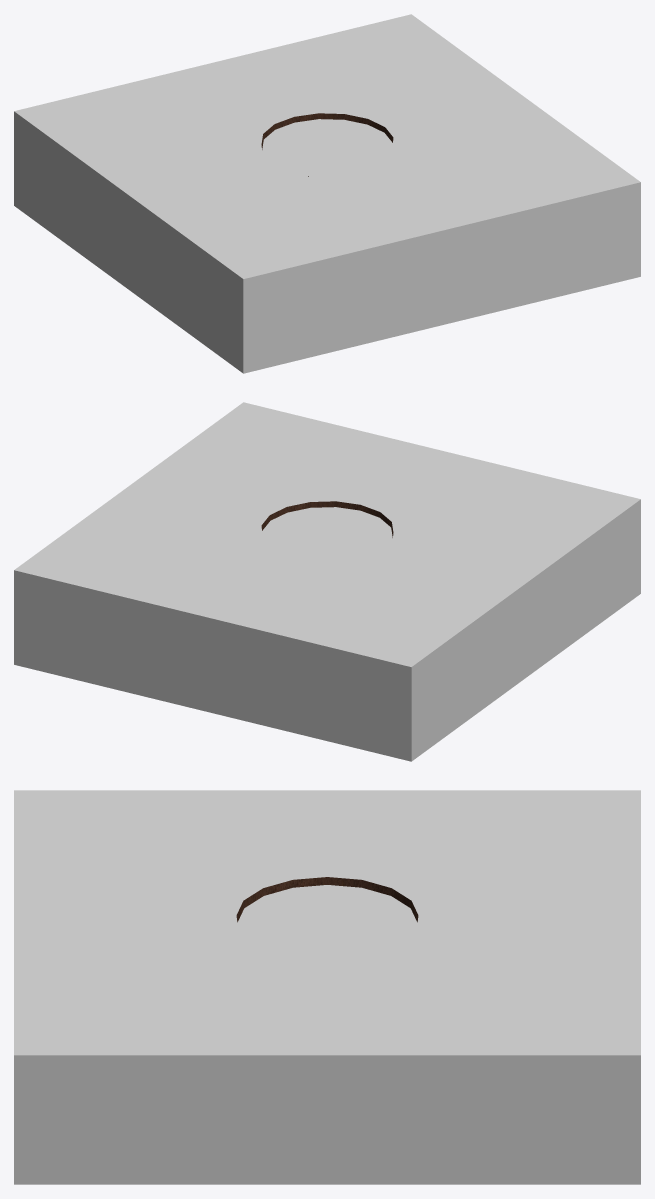
Rendered from urn_a_broken.glb.
3 views of the same model, one above another, from view 1: azimuth 30°, elevation 25°; view 2: azimuth 150°, elevation 25°; view 3: azimuth 270°, elevation 25° (orthographic). The views are drawn at different scales.
Parts seen in each view (by area): view 1: col_click, urn_a_broken; view 2: col_click, urn_a_broken; view 3: col_click, urn_a_broken.
Boxes of the visible parts, box(x1,y1,x2,y2) form: col_click: box(14, 14, 640, 373); urn_a_broken: box(261, 113, 393, 176); col_click: box(14, 402, 640, 761); urn_a_broken: box(261, 501, 393, 537); col_click: box(14, 790, 640, 1184); urn_a_broken: box(236, 877, 418, 922).
Bounding box in the file's own units: 1.32 × 0.3581 × 1.32.
Materials: 2 (2 with a texture image).
